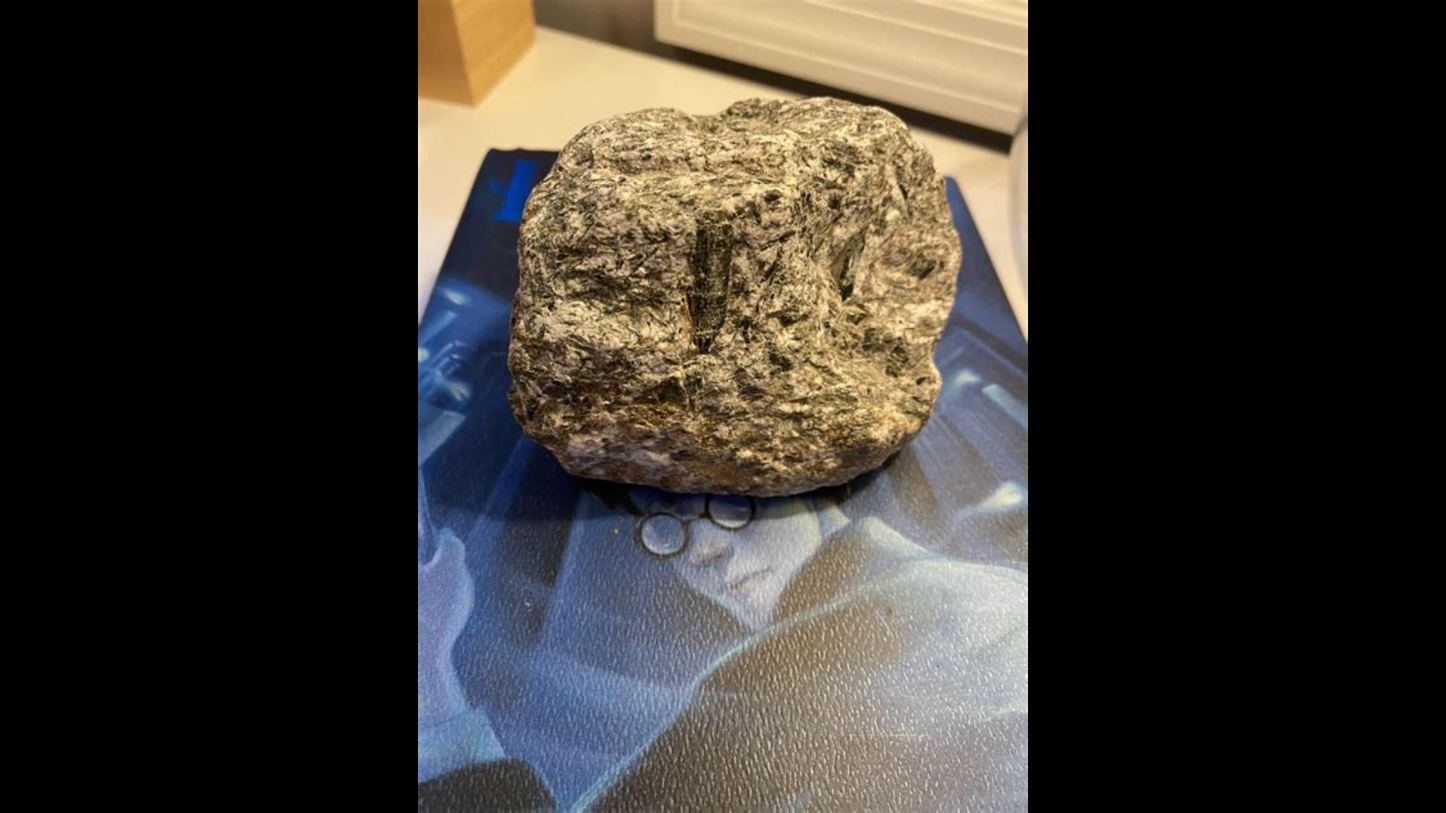rock: (509, 99, 960, 494)
